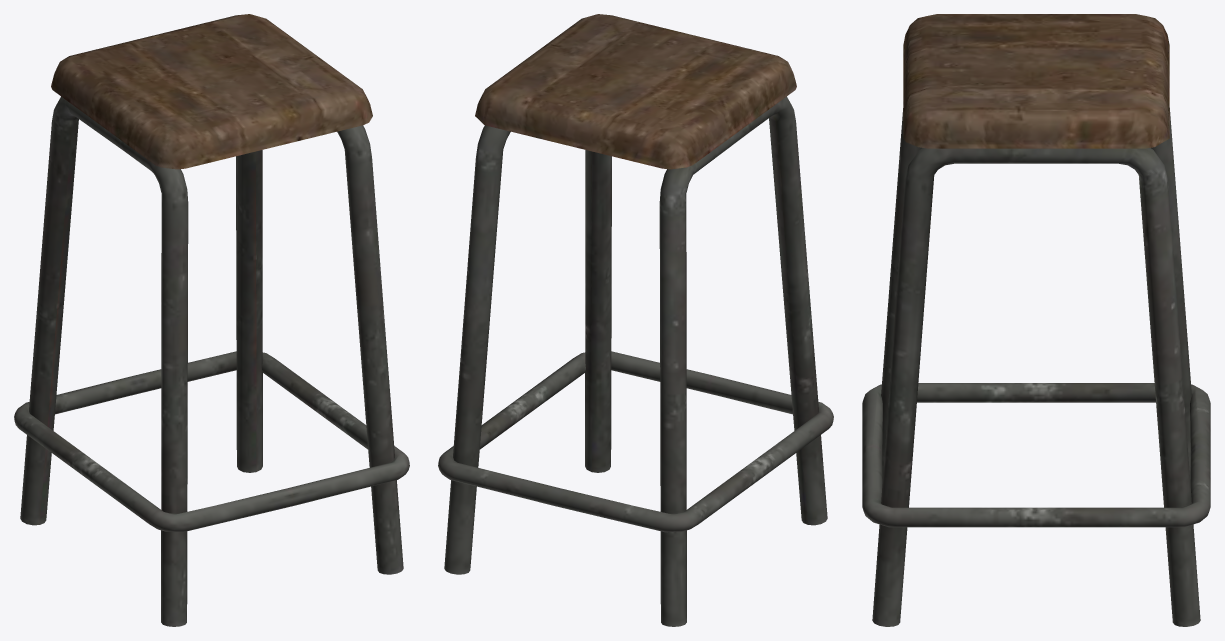
The model's file is stool_d.glb.
3 views of the same model, side by side, from view 1: azimuth 30°, elevation 25°; view 2: azimuth 150°, elevation 25°; view 3: azimuth 270°, elevation 25° (orthographic). The views are drawn at different scales.
Visible parts, largest first — view 1: Stool_d; view 2: Stool_d; view 3: Stool_d.
Boxes of the visible parts, <box> form: Stool_d: <box>14,14,409,626</box>; Stool_d: <box>438,14,833,626</box>; Stool_d: <box>862,14,1210,626</box>.
Size of the model in its own units: 0.3802 by 0.6653 by 0.4168.
1 material, 1 textured.
